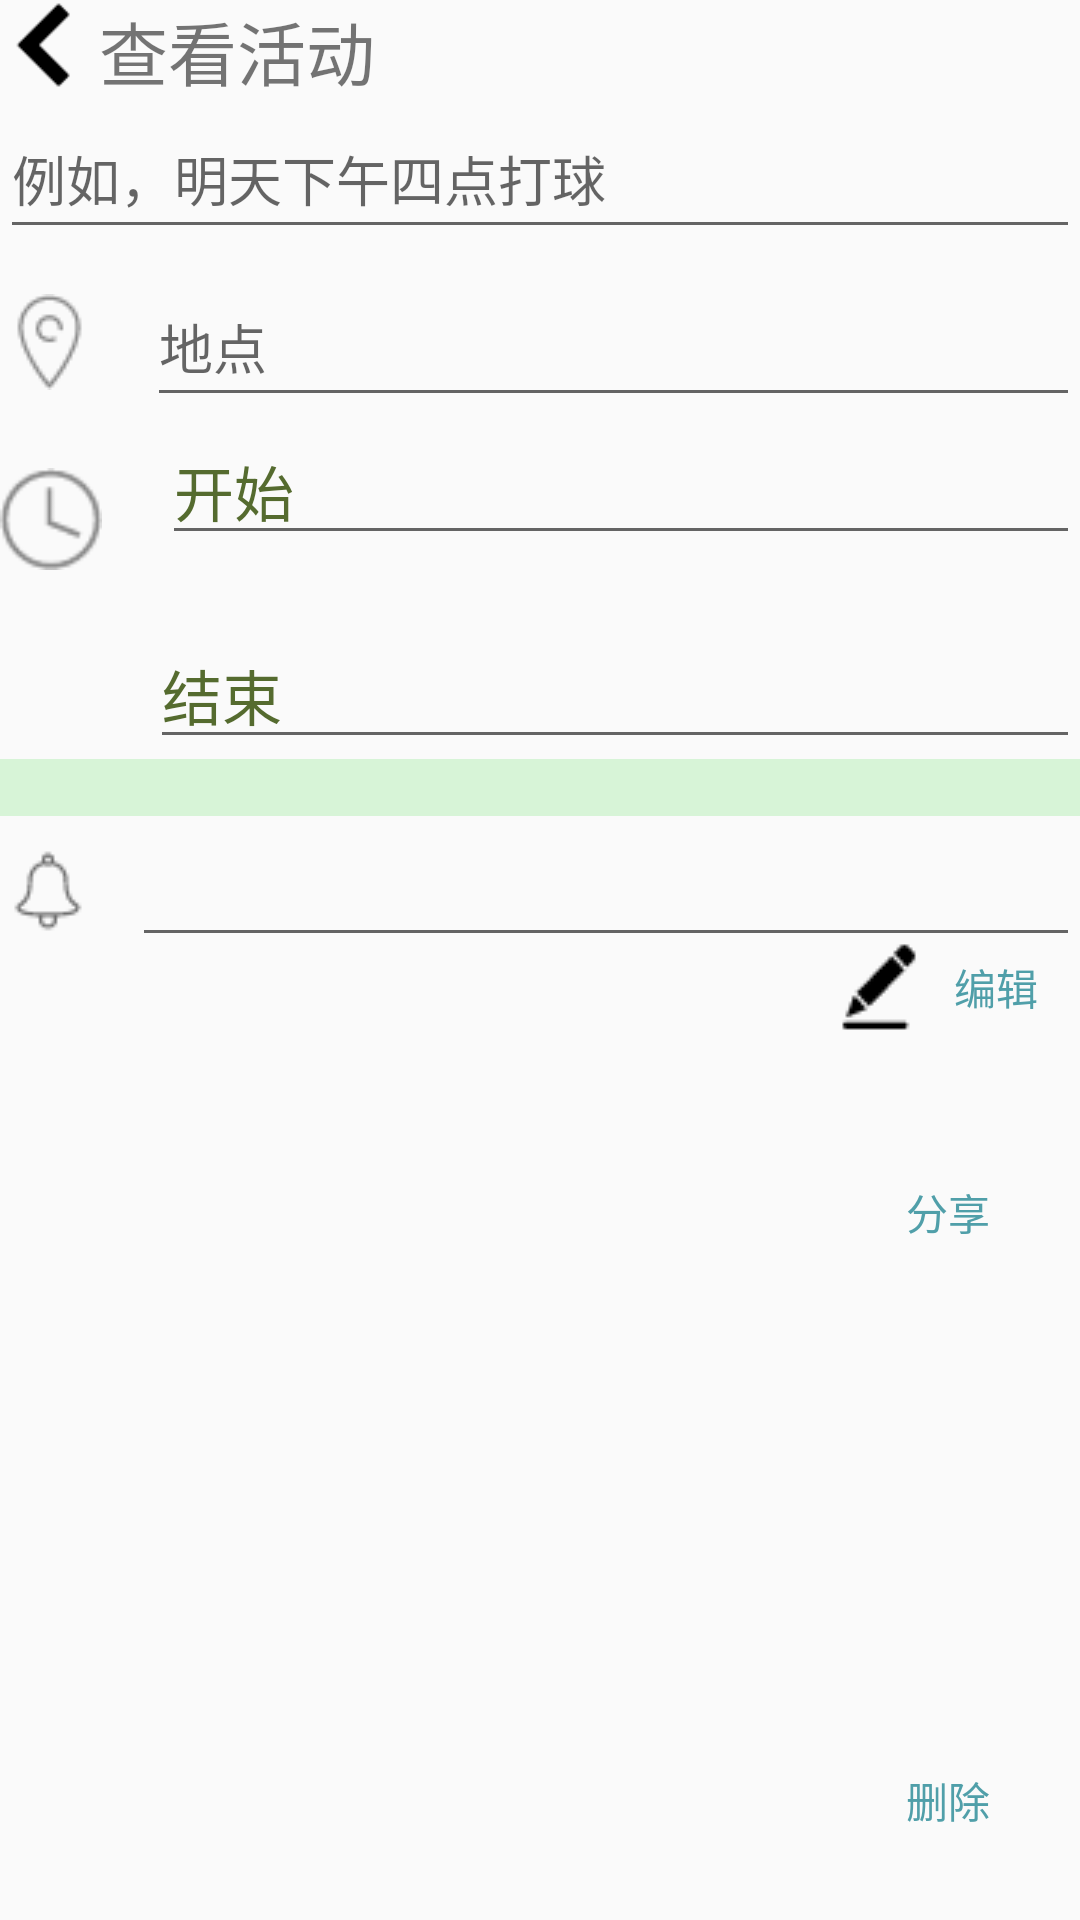

Where to tap for icons on this 1080×1920 app screen, as [x,y]:
back schedule: [43,45]
event clock: [51,519]
event location: [49,342]
event remind: [48,891]
